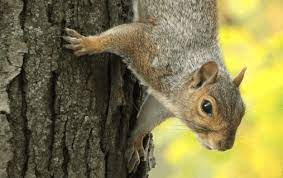squirrel: (67, 1, 248, 157)
